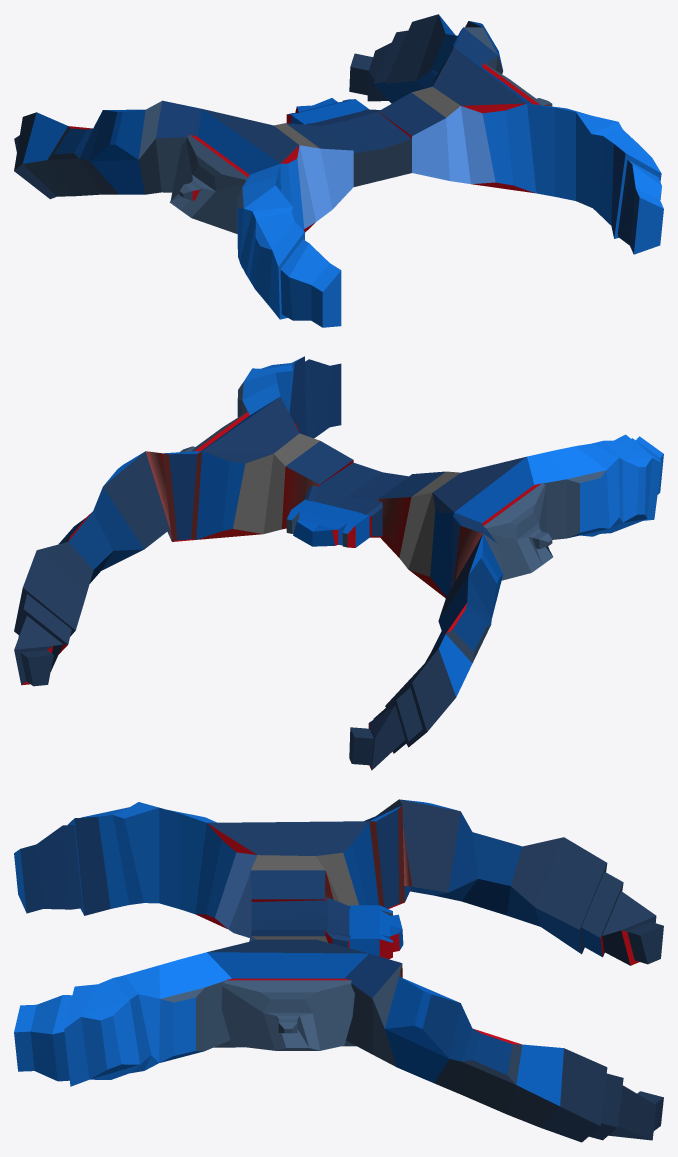
The model's file is impostership.glb.
The picture shows the model from 3 angles, top to bottom: view 1: azimuth 30°, elevation 25°; view 2: azimuth 150°, elevation 25°; view 3: azimuth 270°, elevation 25°; orthographic projection. The views are drawn at different scales.
Parts seen in each view (by area): view 1: Cube; view 2: Cube; view 3: Cube.
Part boxes in pixels (<box>): Cube: <box>14,14,663,327</box>; Cube: <box>14,356,663,770</box>; Cube: <box>14,799,663,1142</box>.
Size of the model in its own units: 14.8 by 5.04 by 17.86.
1 material, 1 textured.
